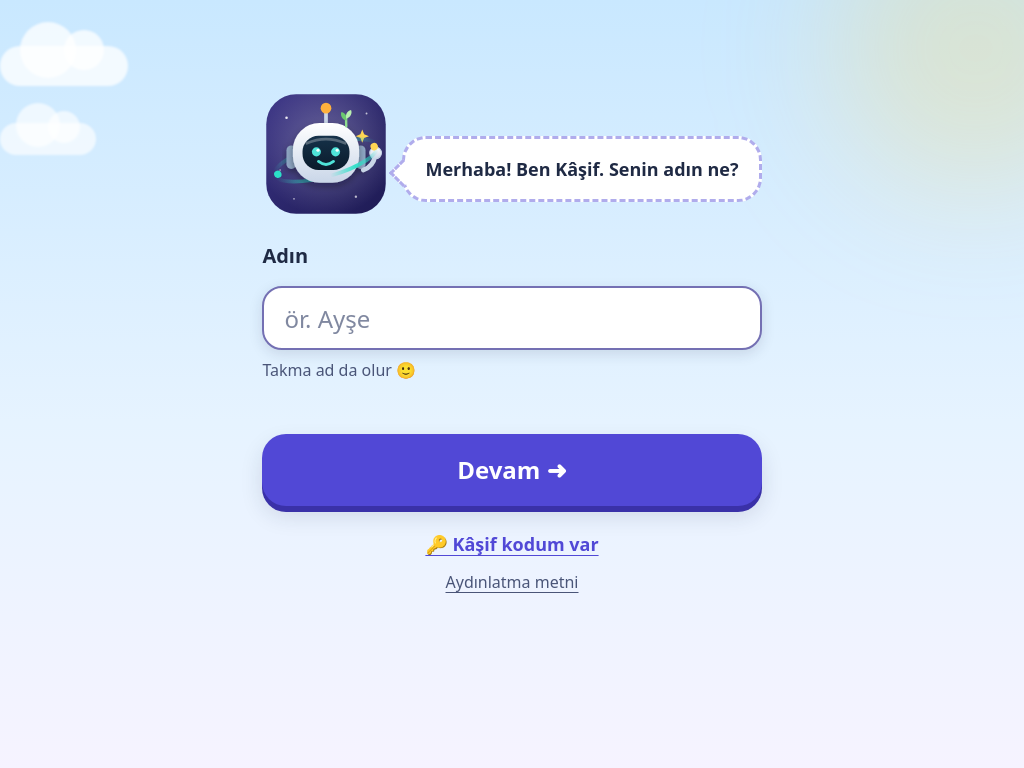
Kâşif app › refuses an inappropriate nickname
Type "aptal" into the field labelled "Adın". click: (512,318)
box: [262, 286, 762, 350]
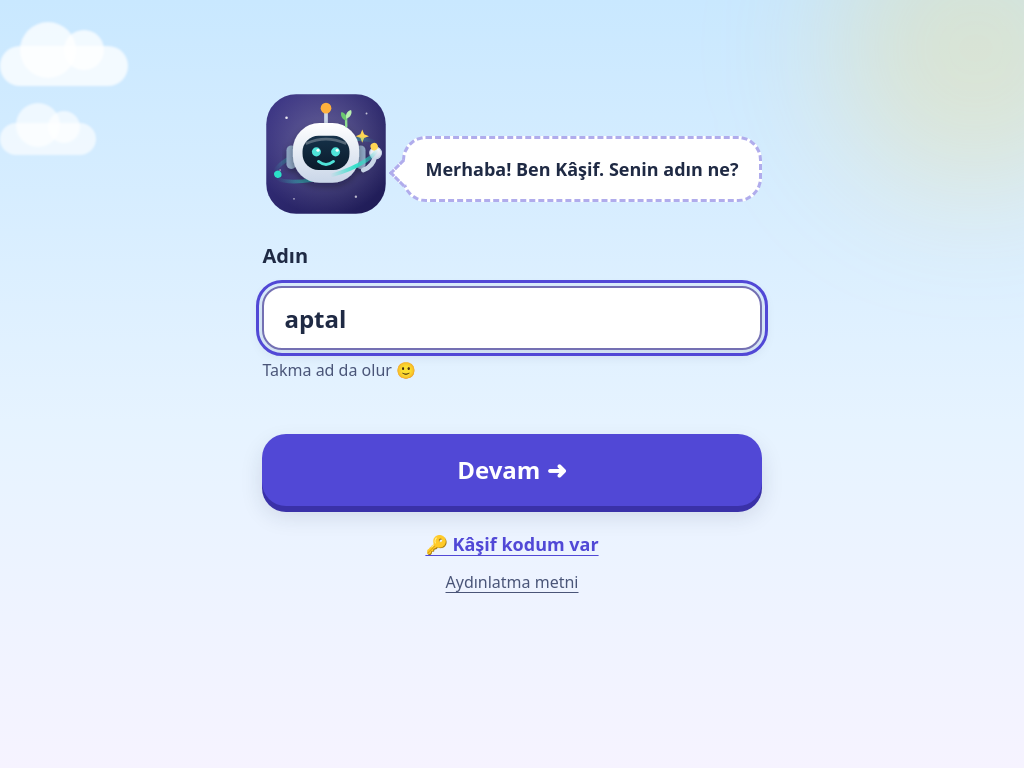
Click the button "Devam ➜". click: (512,470)
box: [262, 434, 762, 506]
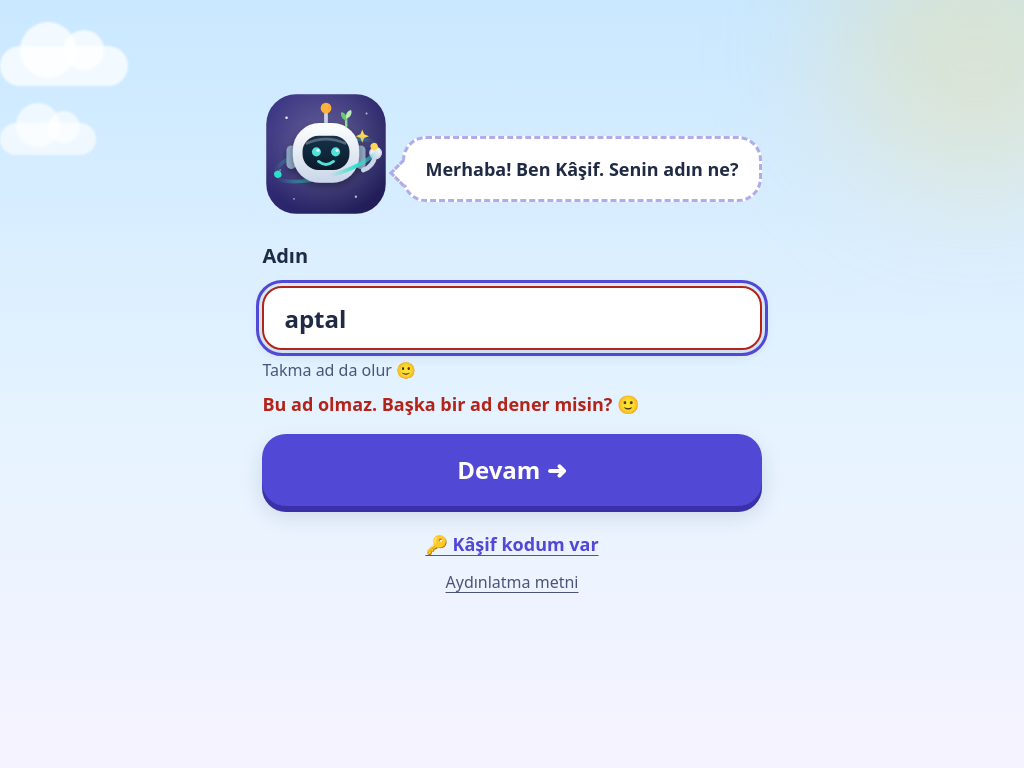
Check: the message "Bu ad olmaz. Başka bir ad dener misin? 🙂" is not empty, box [262, 392, 640, 416]
